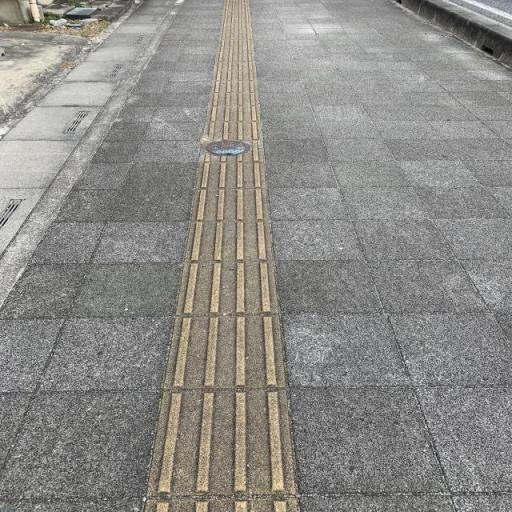line: (148, 384, 297, 505), (159, 310, 286, 391), (176, 260, 283, 315), (182, 219, 275, 263), (188, 188, 269, 222), (197, 160, 268, 191)
